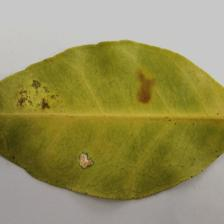canker: (15, 61, 155, 170)
